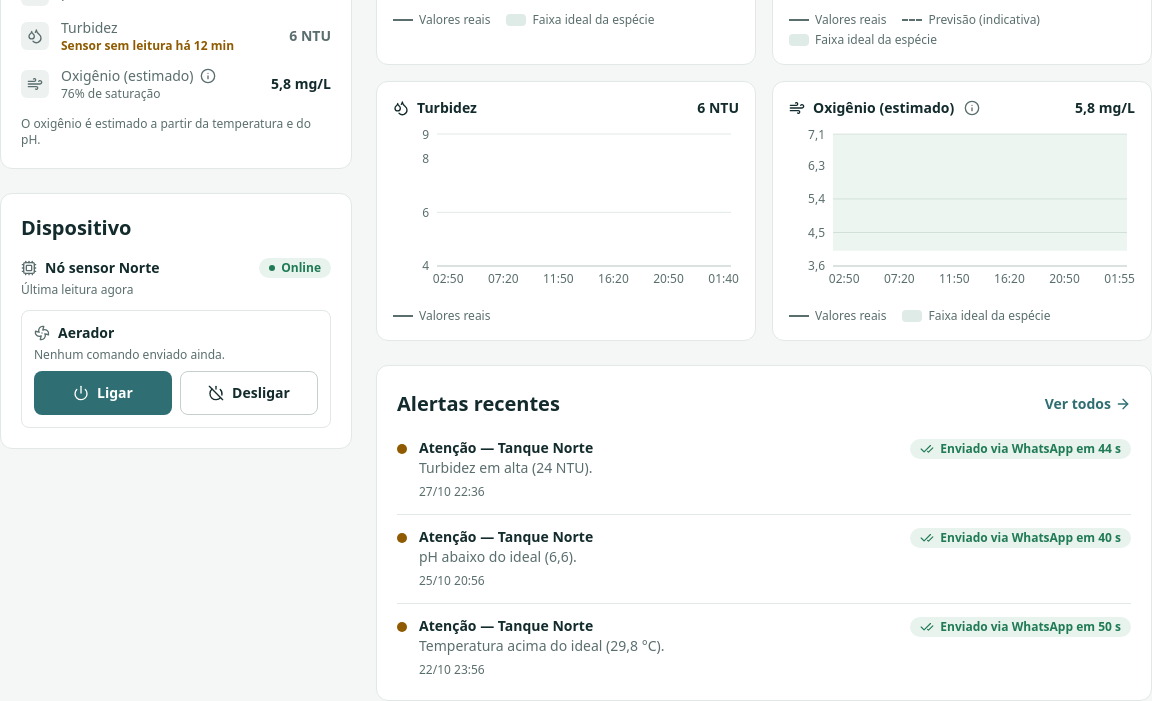
aerador (F-02) › o produtor desliga o aerador com confirmação e passa a ver o último comando
The width and height of the screenshot is (1152, 701).
(page scrolled)
Expected: the text "Nenhum comando enviado ainda." is shown, x1=34 y1=346 x2=225 y2=363
Click the button "Desligar" at (249, 393), box x1=180 y1=371 x2=318 y2=415
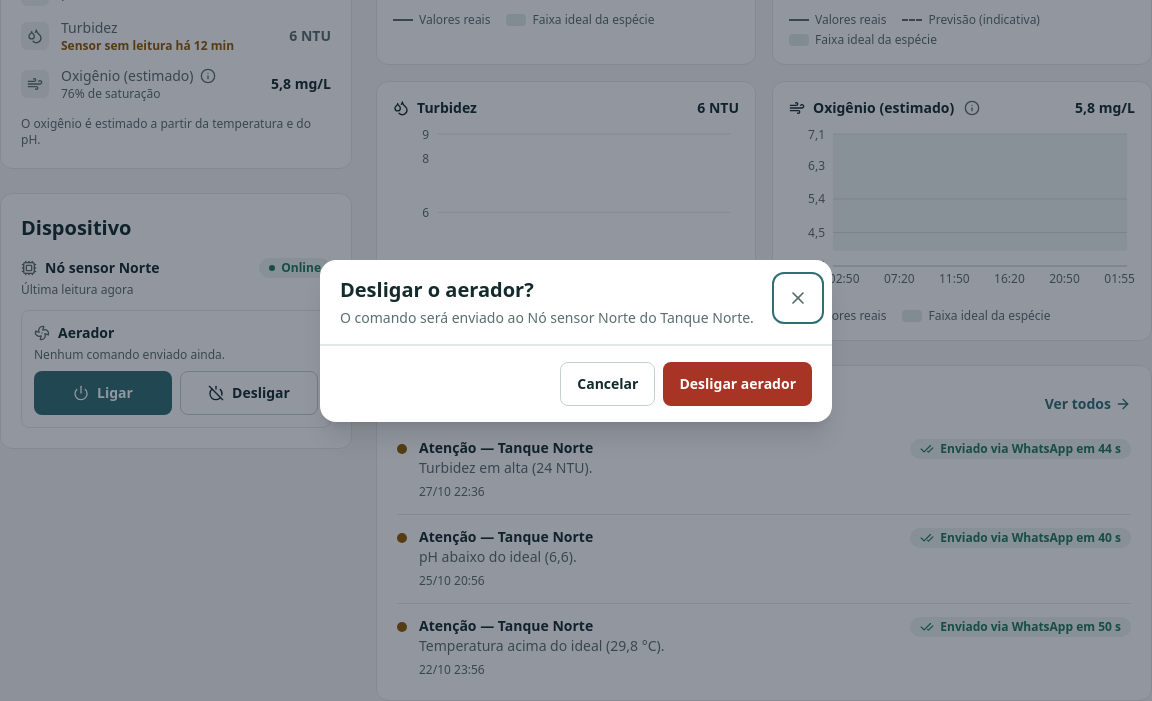
Click the button "Desligar aerador" at (738, 384), box x1=663 y1=362 x2=812 y2=406
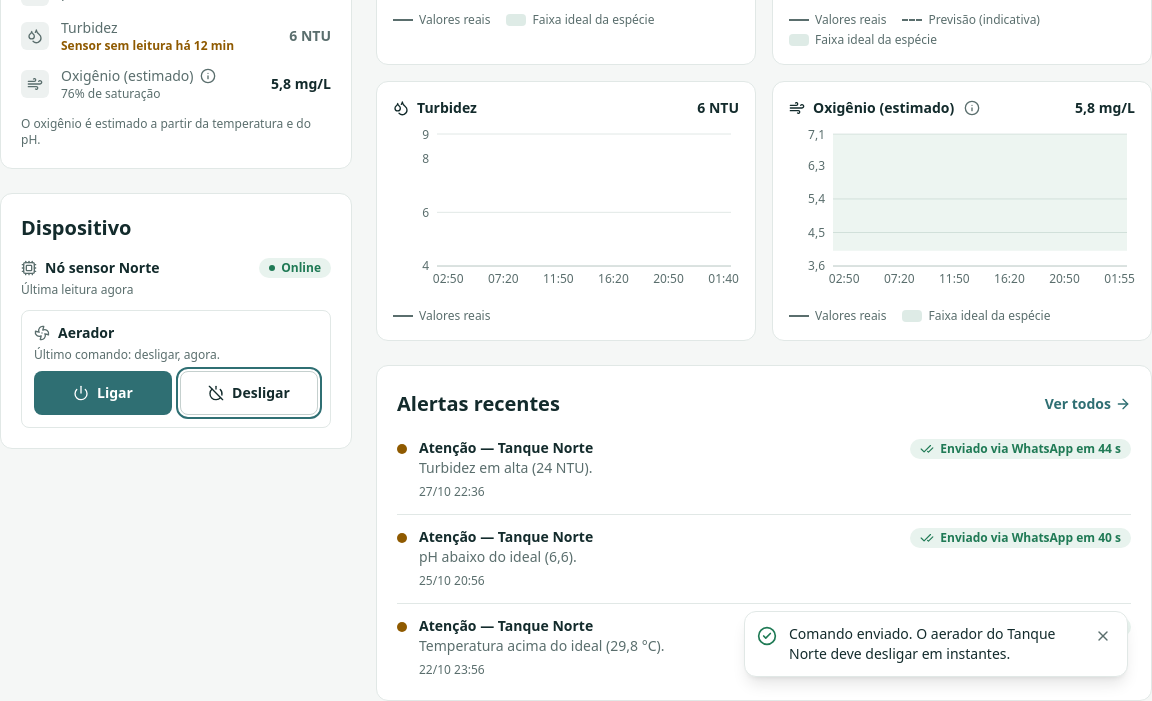
Result: the text "Comando enviado. O aerador do Tanque Norte deve desligar em instantes." is shown at x1=789 y1=624 x2=1079 y2=664
Result: the text "Último comando: desligar, agora." is shown at x1=34 y1=346 x2=220 y2=363
